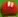red: (0, 0, 18, 17)
